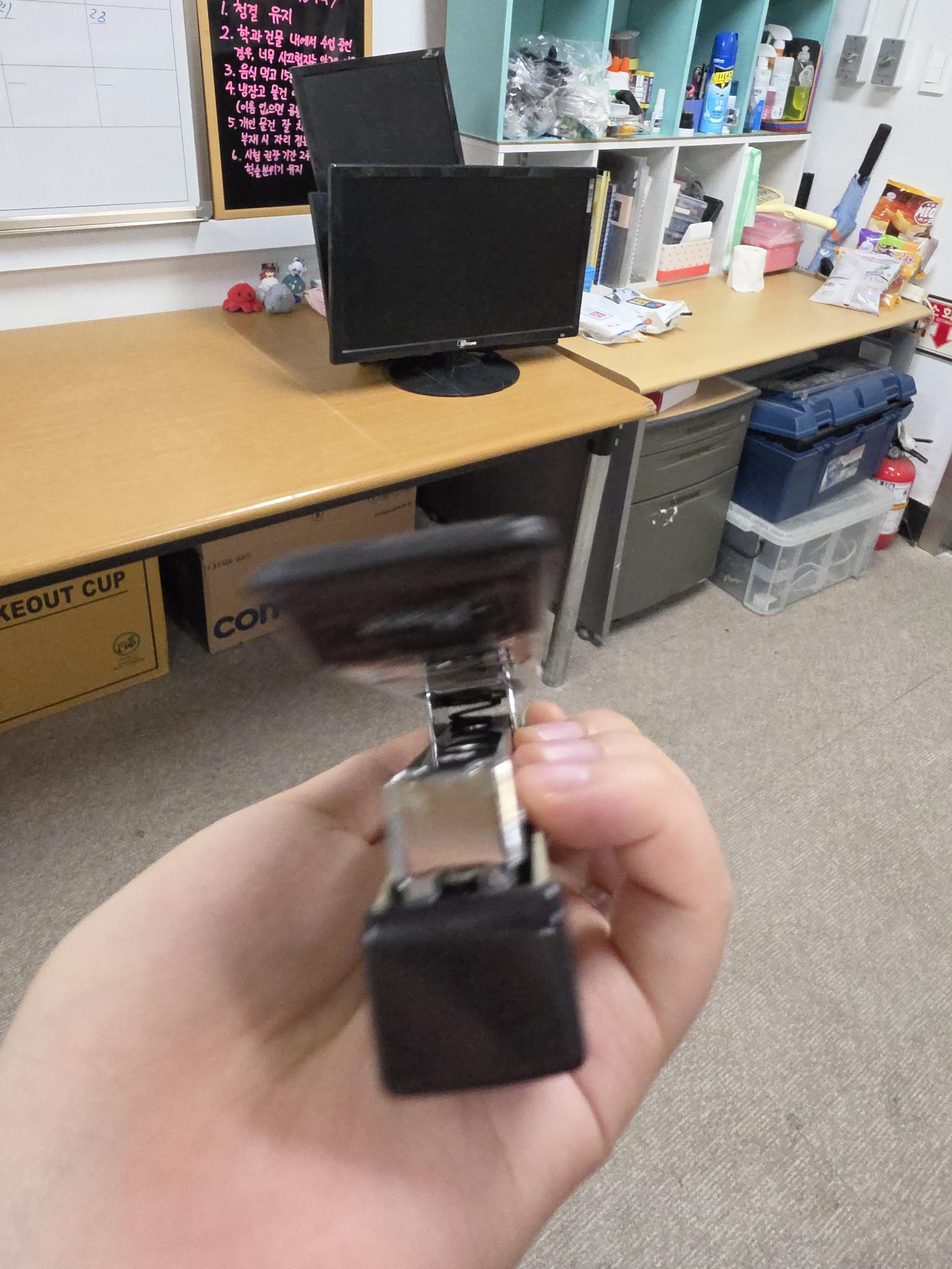stapler: (246, 513, 585, 1097)
tissue: (656, 220, 713, 283), (731, 244, 767, 293)
